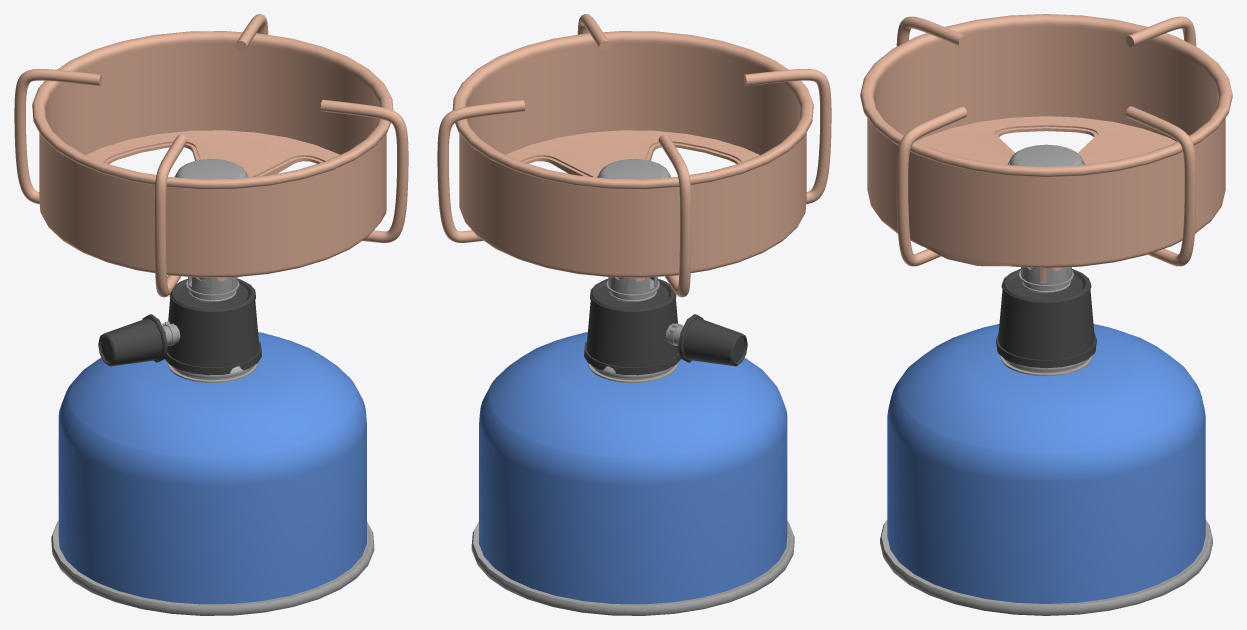
The model's file is GasStove_low.fbx.
The picture shows the model from 3 angles, left to right: view 1: azimuth 30°, elevation 25°; view 2: azimuth 150°, elevation 25°; view 3: azimuth 270°, elevation 25°; orthographic projection. The views are drawn at different scales.
Visible parts, largest first — view 1: MainFrame_low; view 2: MainFrame_low; view 3: MainFrame_low.
Boxes of the visible parts, x1,y1,x2,y2 form: MainFrame_low: [14, 14, 408, 615]; MainFrame_low: [437, 14, 831, 615]; MainFrame_low: [860, 14, 1232, 615].
Size of the model in its own units: 234 by 329 by 234.
